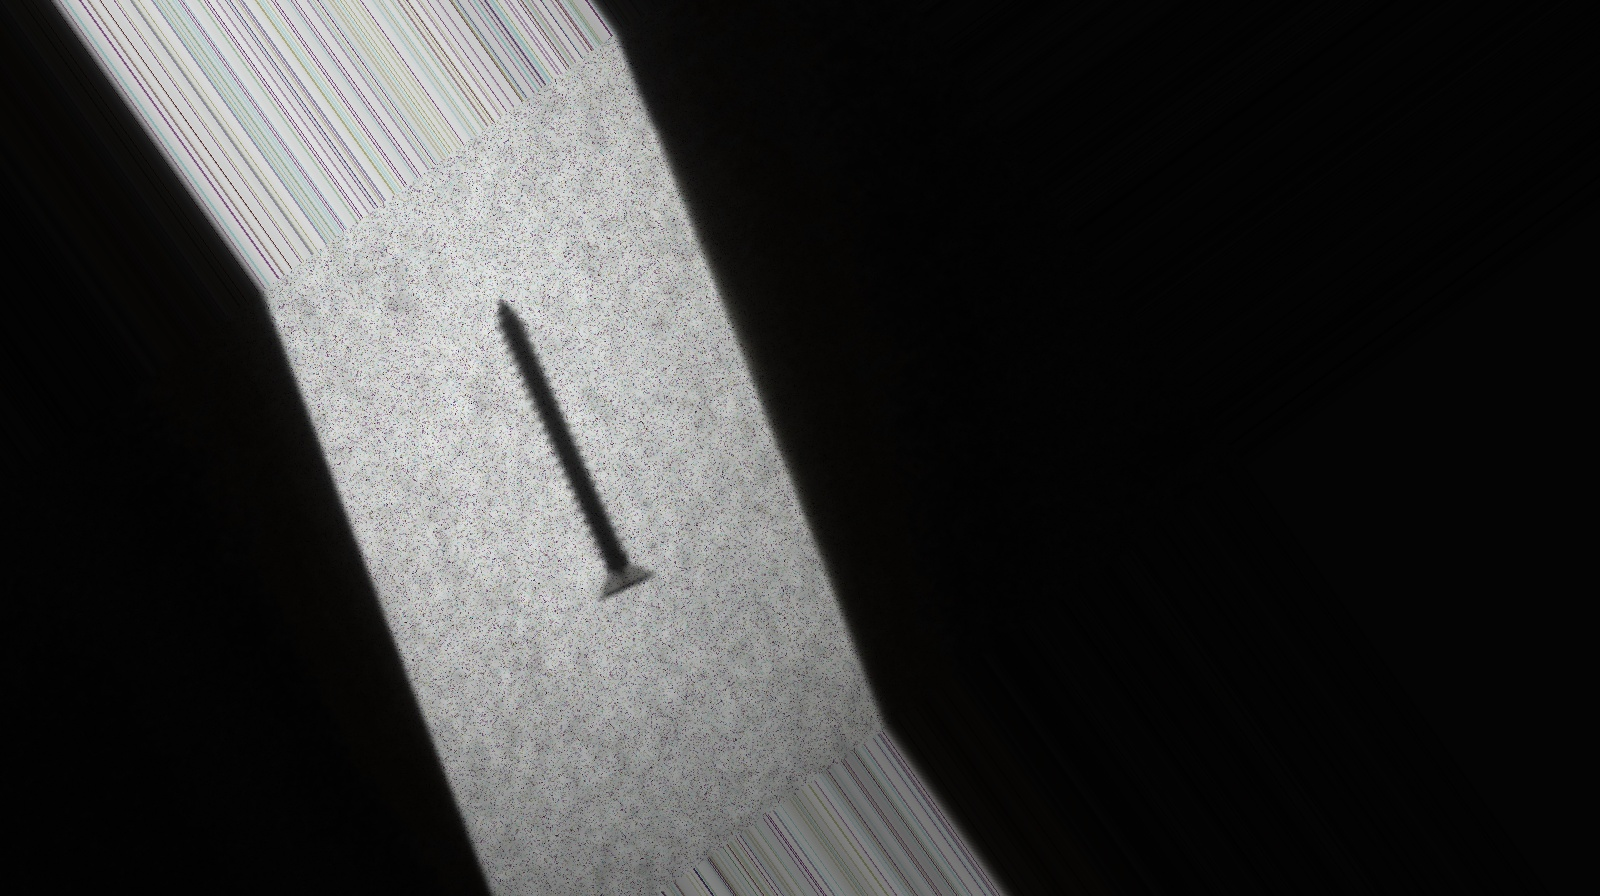S002: (420, 285, 704, 619)
